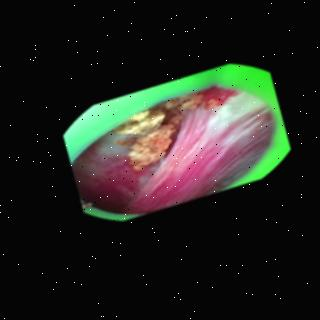stone: (110, 97, 200, 170), (207, 101, 217, 111)
tissue: (78, 114, 257, 211)
